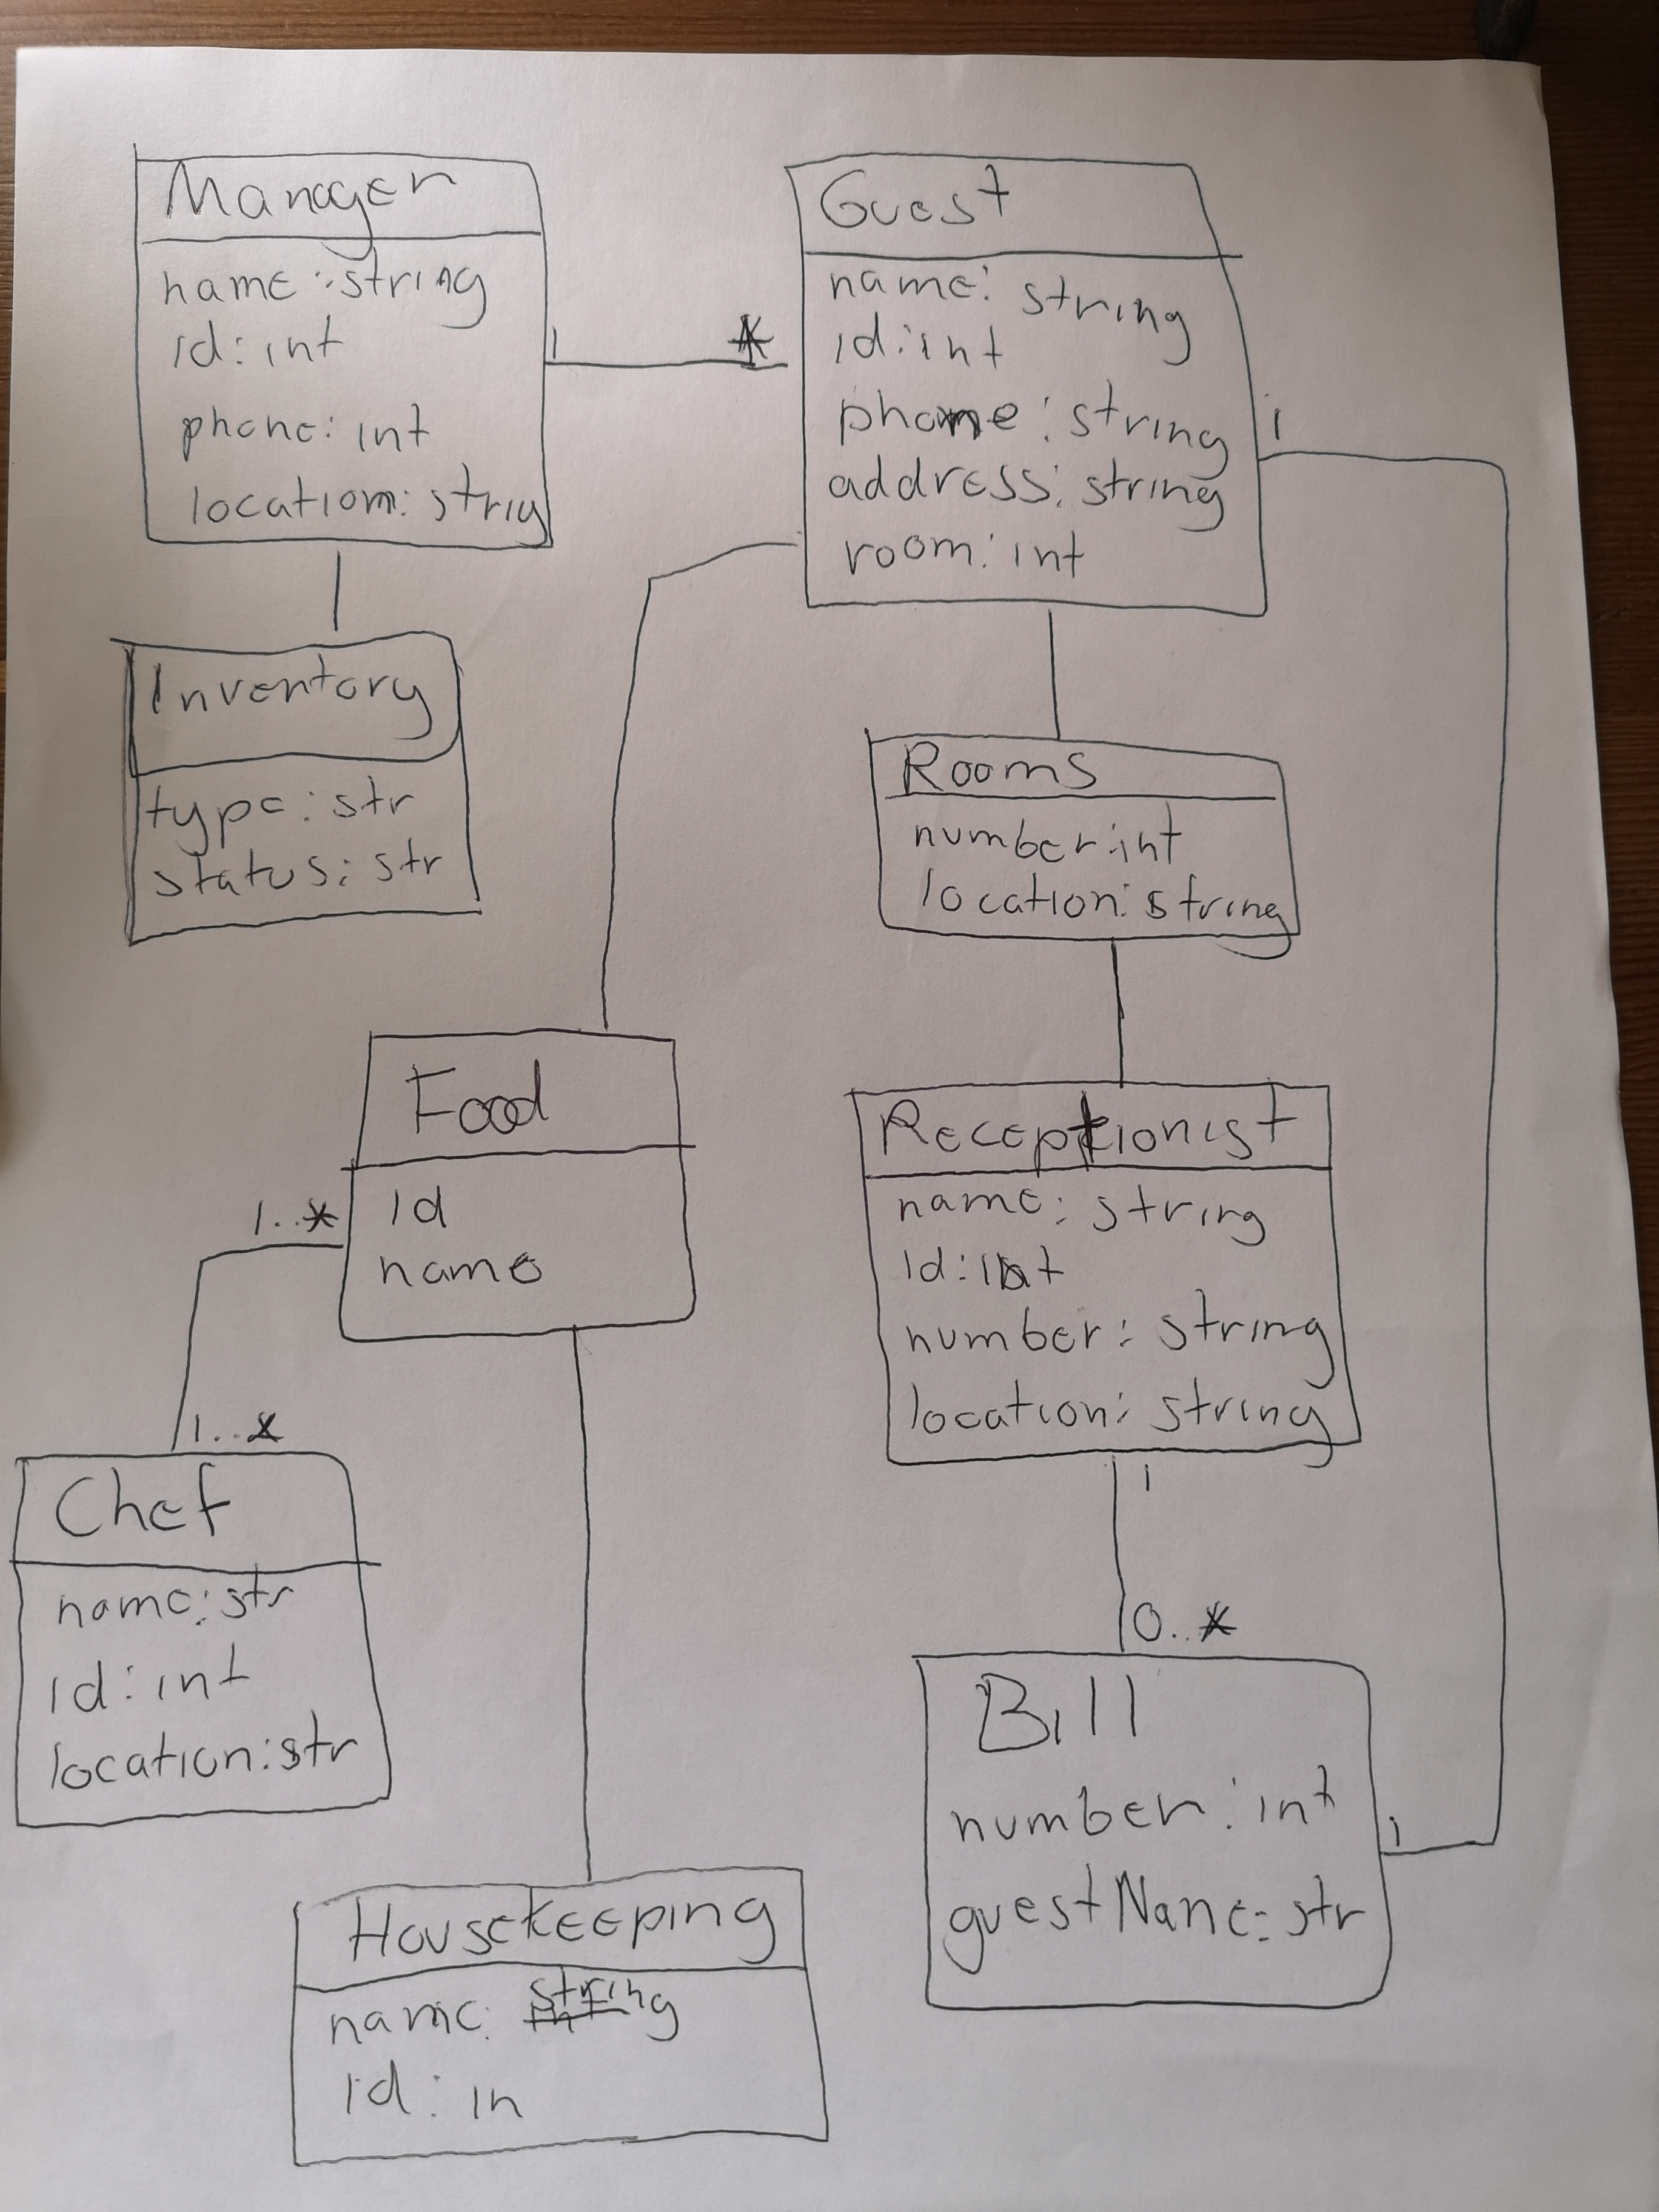association: (1343, 420, 1529, 1884), (590, 534, 791, 1042), (130, 1173, 369, 1482), (532, 1335, 634, 1888), (1071, 1438, 1241, 1674), (529, 295, 816, 423), (1081, 936, 1167, 1099), (1027, 598, 1091, 742), (303, 544, 379, 665)
class attributes: (778, 135, 1279, 627), (842, 1064, 1372, 1476), (118, 119, 568, 560), (896, 1635, 1388, 2027), (270, 1849, 842, 2165), (12, 1425, 411, 1837), (101, 624, 497, 949), (331, 1007, 699, 1348), (848, 710, 1308, 978)
